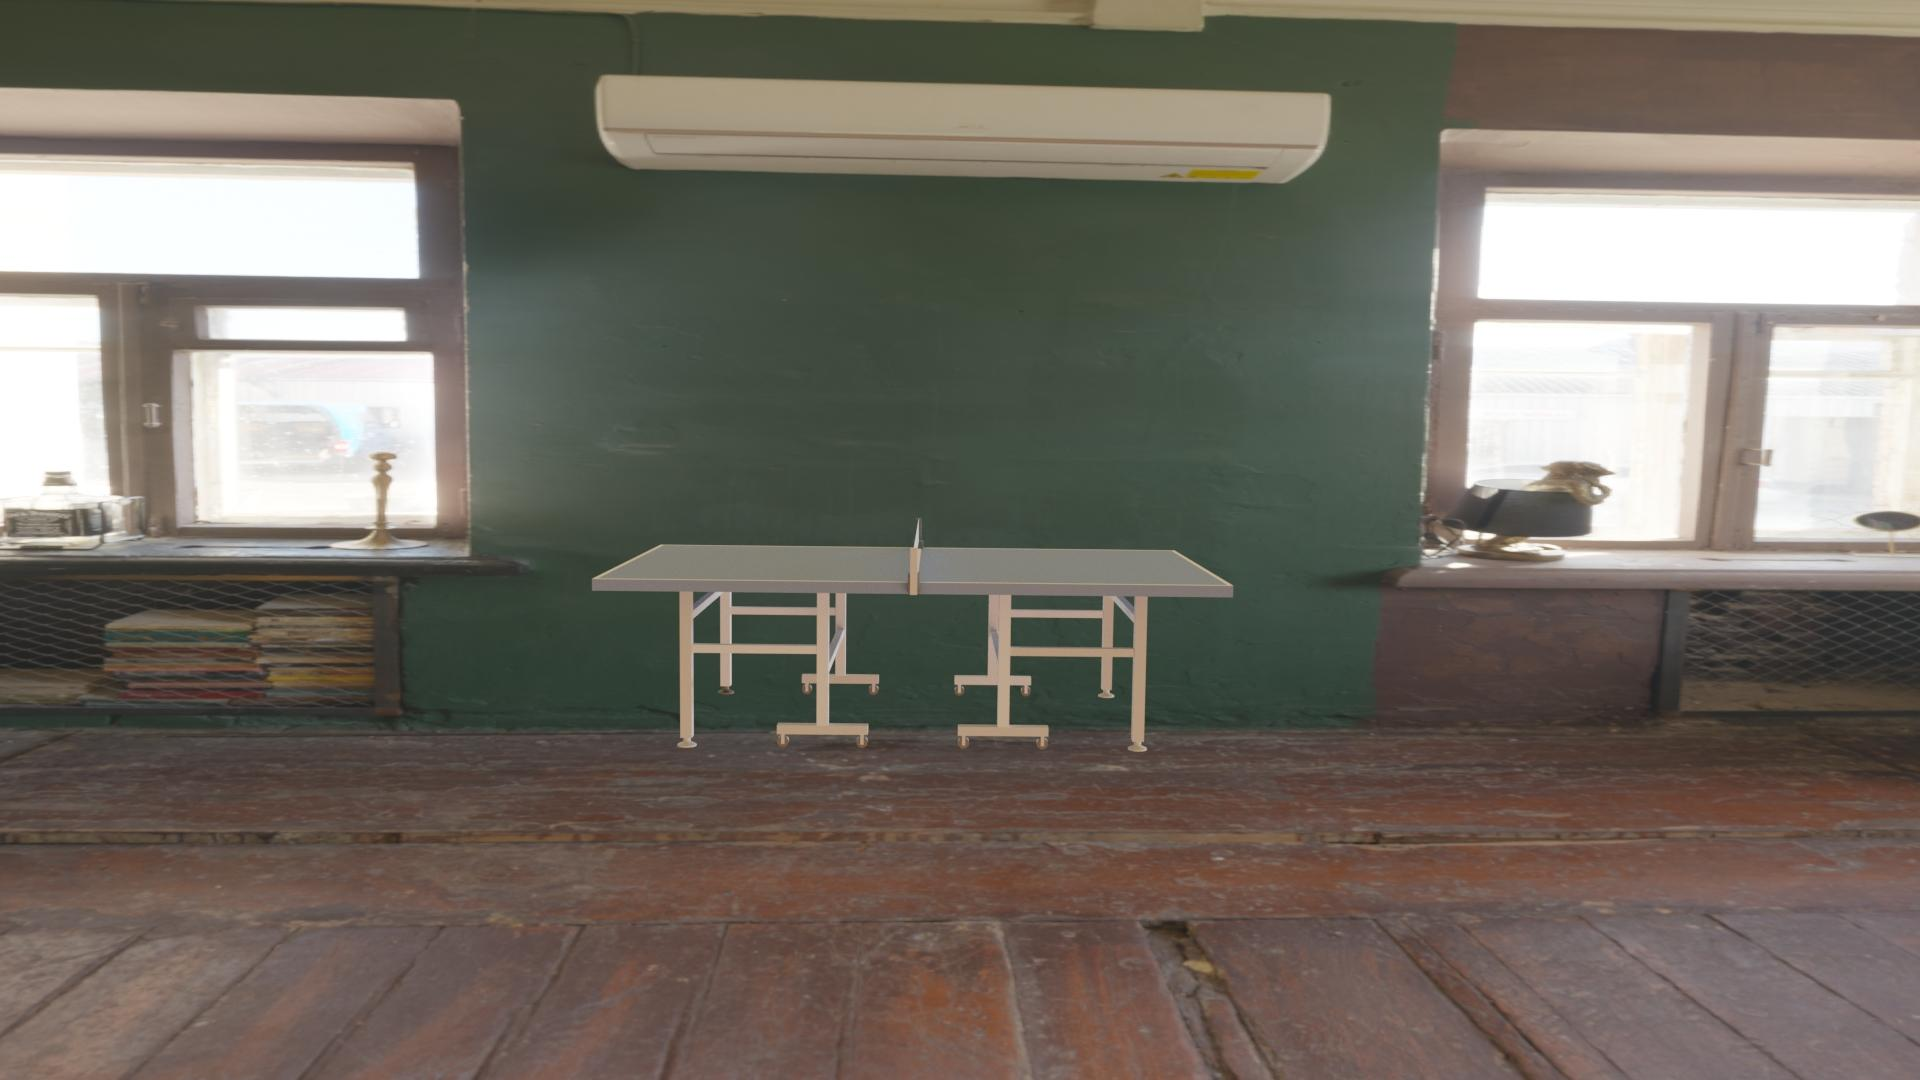table: (598, 545, 1228, 585)
